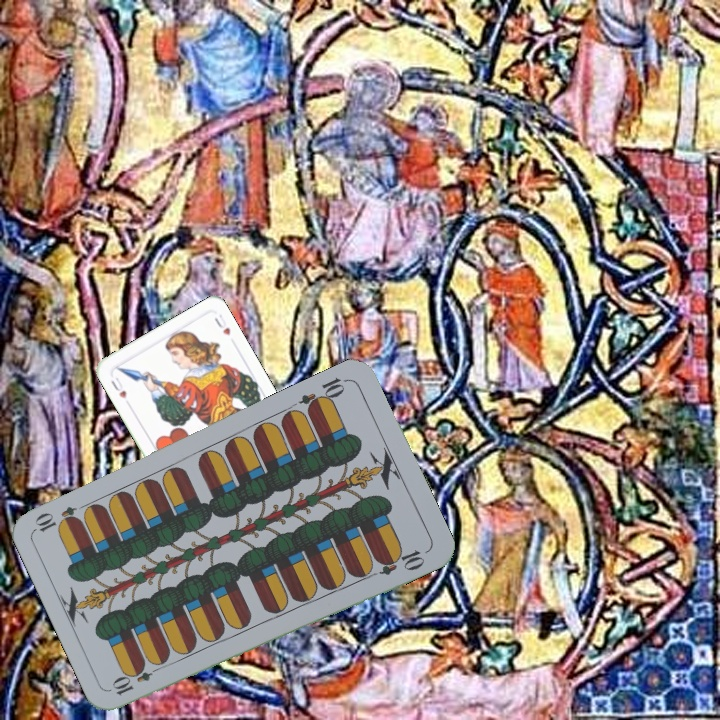E10: (295, 373, 351, 415), (108, 660, 165, 698)
HU: (107, 373, 129, 401)
